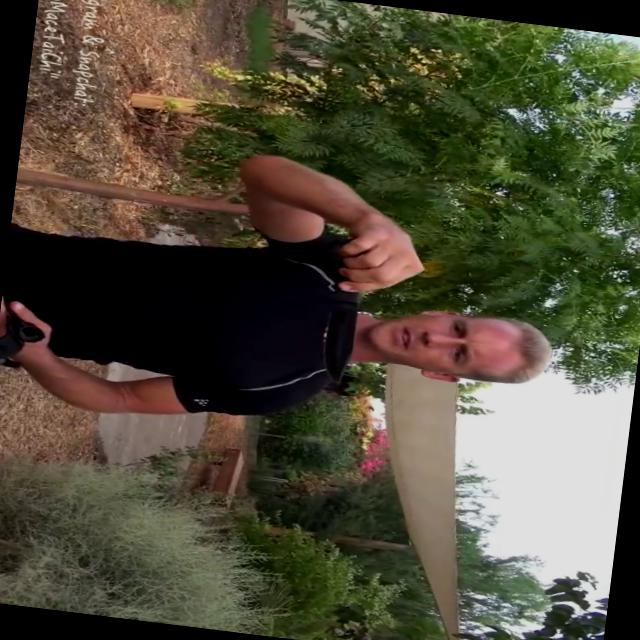knife: (296, 284, 370, 394)
